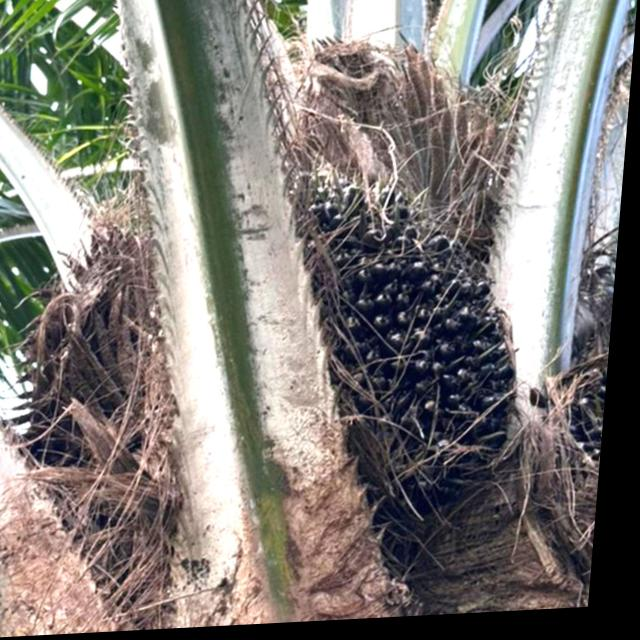unripe: (251, 149, 550, 532)
